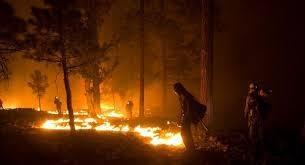fire: (33, 100, 181, 140)
